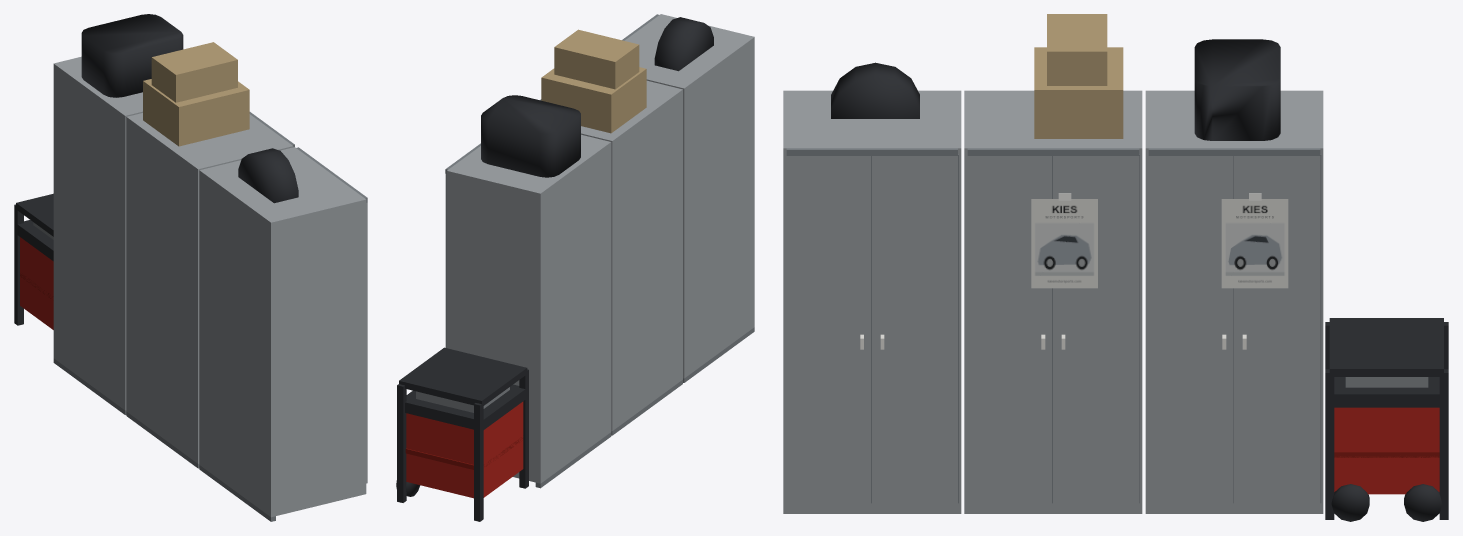
File: garage_cabinets.glb
3 views of the same model, side by side, from view 1: azimuth 30°, elevation 25°; view 2: azimuth 150°, elevation 25°; view 3: azimuth 270°, elevation 25° (orthographic). The views are drawn at different scales.
Parts seen in each view (by area): view 1: root; view 2: root; view 3: root.
Part boxes in pixels (x1,y1,x2,y2): root: [14, 14, 367, 521]; root: [396, 14, 754, 521]; root: [783, 14, 1448, 521].
Bounding box in the file's own units: 0.7163 × 2.41 × 3.19.
10 materials, 1 textured.
